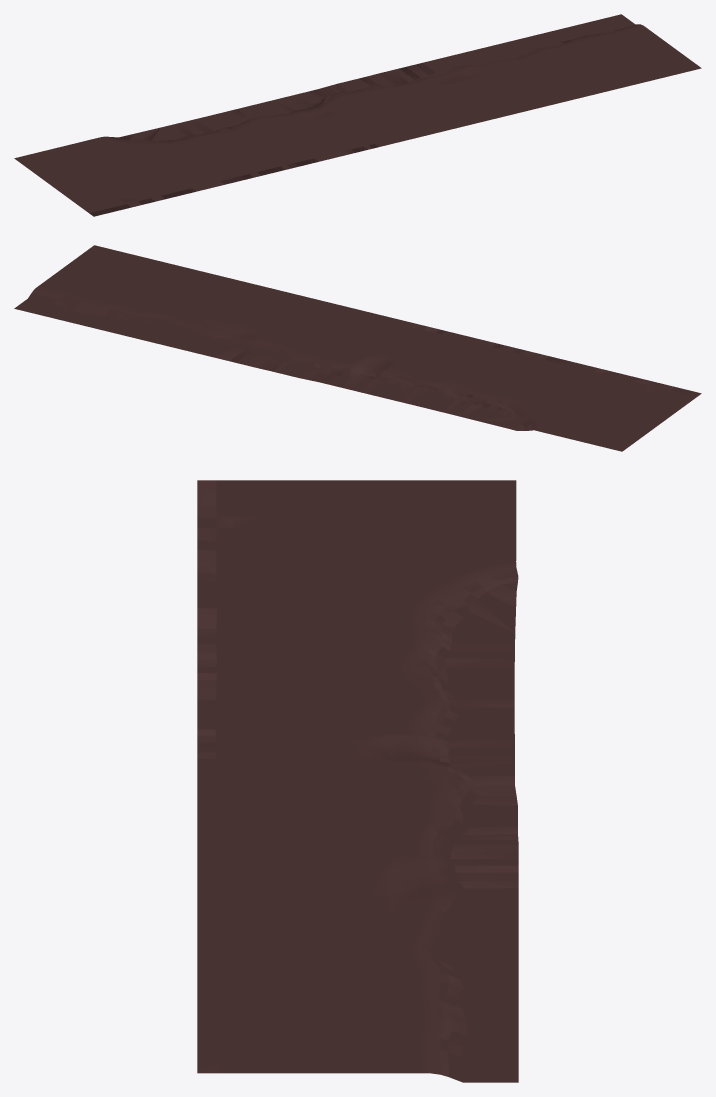
File: ground_01.fbx
3 renders of one model, top to bottom at view 1: azimuth 30°, elevation 25°; view 2: azimuth 150°, elevation 25°; view 3: azimuth 270°, elevation 25°, orthographic. The views are drawn at different scales.
Visible parts, largest first — view 1: ground_01; view 2: ground_01; view 3: ground_01.
Boxes of the visible parts, left/top/right/bottom form: ground_01: left=14, top=14, right=701, bottom=216; ground_01: left=14, top=245, right=701, bottom=451; ground_01: left=197, top=480, right=518, bottom=1082.
Size of the model in its own units: 14361 by 107 by 3289.
